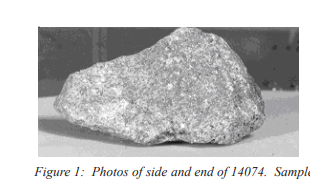Basalt: (57, 28, 263, 144)
